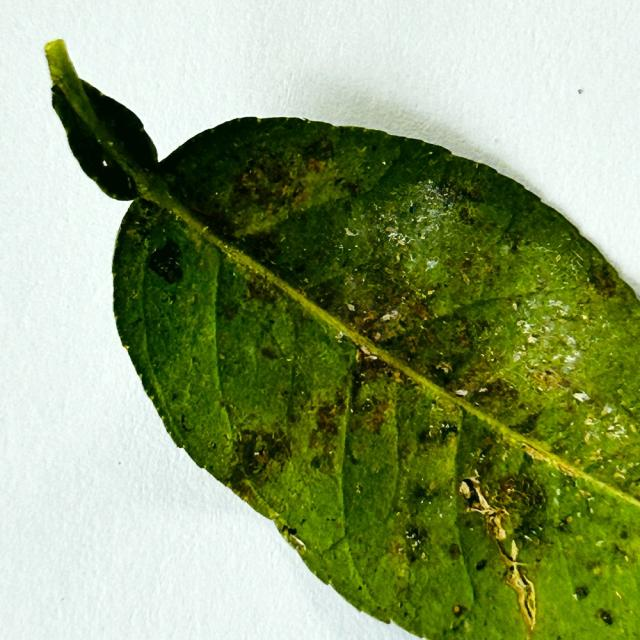Bacterial_Blight: (229, 362, 343, 492), (228, 144, 320, 223), (341, 290, 432, 356), (440, 234, 503, 299), (228, 432, 296, 486), (181, 200, 252, 249), (300, 272, 358, 324), (233, 427, 285, 481), (496, 473, 547, 522), (347, 391, 393, 444), (231, 228, 286, 270), (466, 377, 522, 413), (232, 163, 279, 205), (147, 239, 186, 285), (352, 348, 398, 386), (586, 264, 619, 299), (260, 434, 291, 468), (312, 402, 343, 436), (301, 136, 335, 165), (530, 368, 568, 391), (426, 360, 456, 388), (511, 411, 542, 435), (362, 408, 388, 434), (244, 277, 270, 302), (451, 185, 483, 204), (408, 301, 432, 322), (437, 421, 459, 442), (340, 179, 363, 199), (404, 525, 425, 546), (456, 205, 478, 225), (449, 615, 469, 634), (411, 483, 432, 501), (595, 608, 613, 626), (306, 157, 324, 174), (254, 448, 270, 466), (180, 413, 195, 432), (260, 346, 280, 360), (558, 514, 574, 531), (281, 524, 299, 539), (224, 304, 240, 320), (613, 543, 629, 559), (448, 543, 462, 559), (508, 238, 522, 253), (574, 585, 589, 599), (453, 604, 467, 617), (475, 558, 488, 571), (620, 529, 630, 539), (208, 441, 217, 450)
Lemon: (43, 38, 639, 639)
